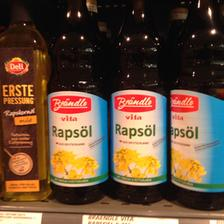Oel: (106, 0, 170, 204), (45, 0, 109, 200), (169, 0, 223, 210), (0, 0, 48, 200)
